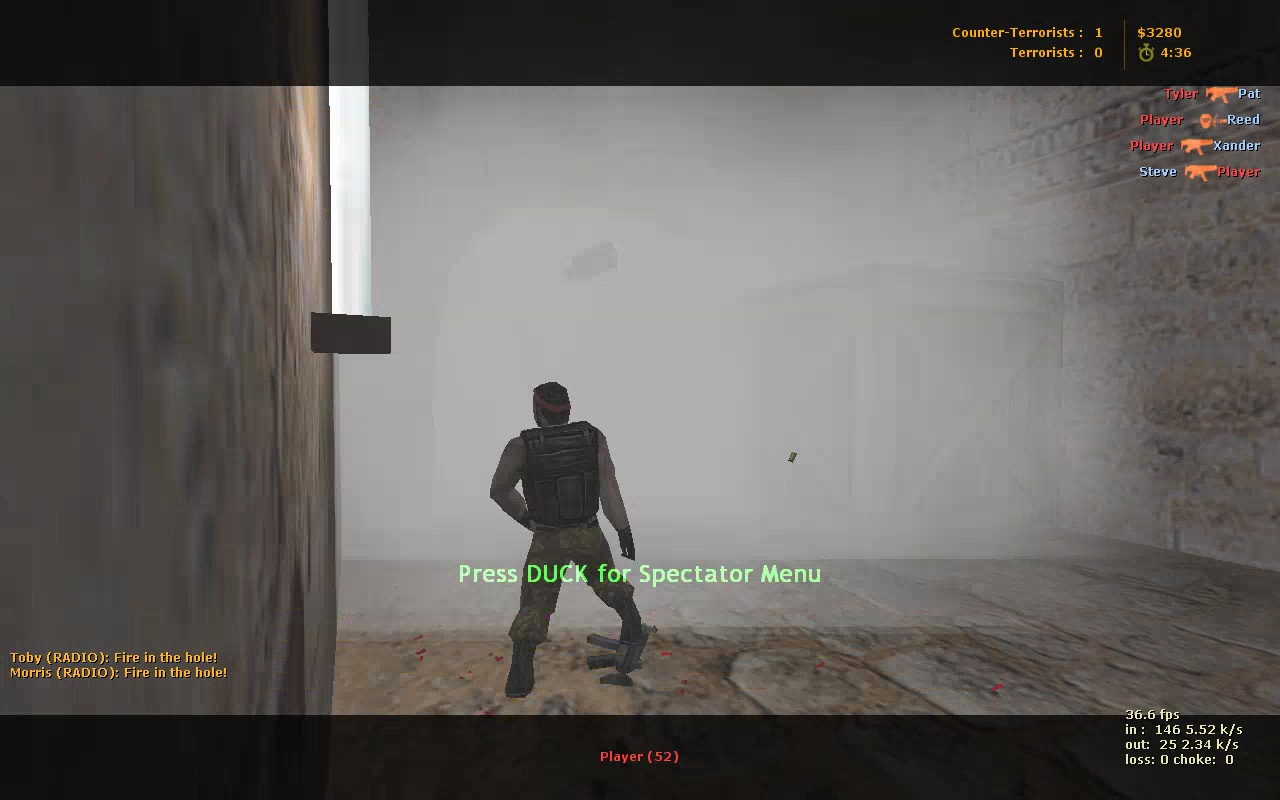terr1: (490, 382, 653, 686)
